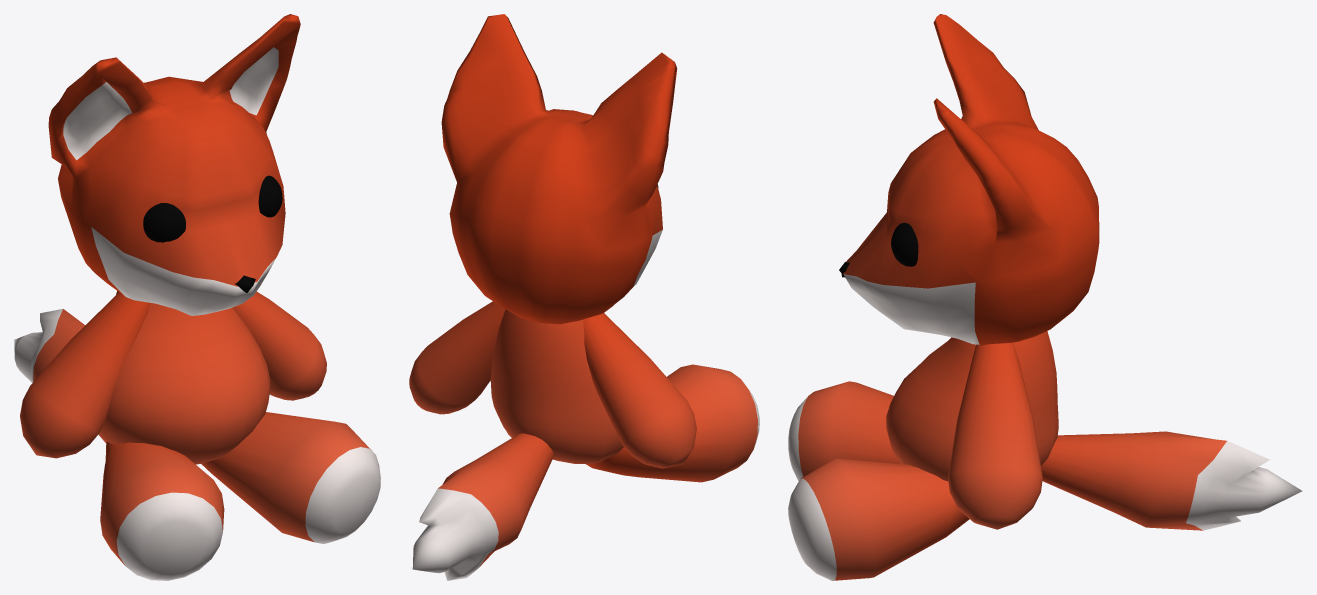
Rendered from FoxToy.fbx.
3 views of the same model, side by side, from view 1: azimuth 30°, elevation 25°; view 2: azimuth 150°, elevation 25°; view 3: azimuth 270°, elevation 25° (orthographic). The views are drawn at different scales.
Visible parts, largest first — view 1: polySurface27; view 2: polySurface27; view 3: polySurface27.
Boxes of the visible parts, bbox=[...] form: polySurface27: bbox=[14, 14, 380, 580]; polySurface27: bbox=[409, 14, 759, 580]; polySurface27: bbox=[788, 14, 1302, 580].
Size of the model in its own units: 6.22 by 9.85 by 9.53.
